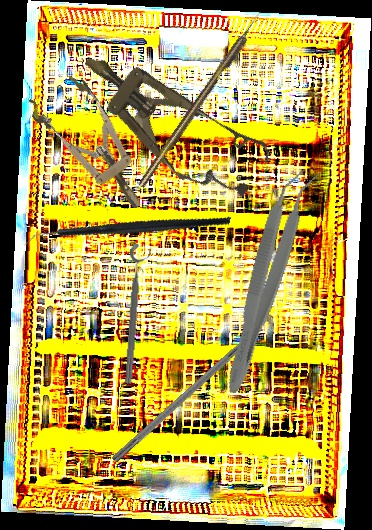Chopper: (23, 164, 232, 300)
Fixation Ring: (121, 243, 153, 385)
Hook Surgical: (136, 10, 266, 189), (111, 323, 268, 465)
Speculum: (63, 27, 278, 215), (23, 67, 163, 226)
Tissue Forceps: (217, 163, 321, 399)
